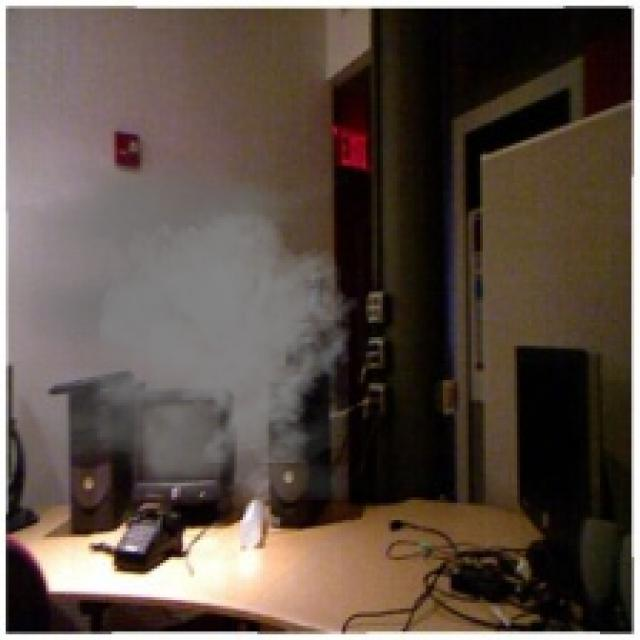smoke: (6, 157, 360, 500)
